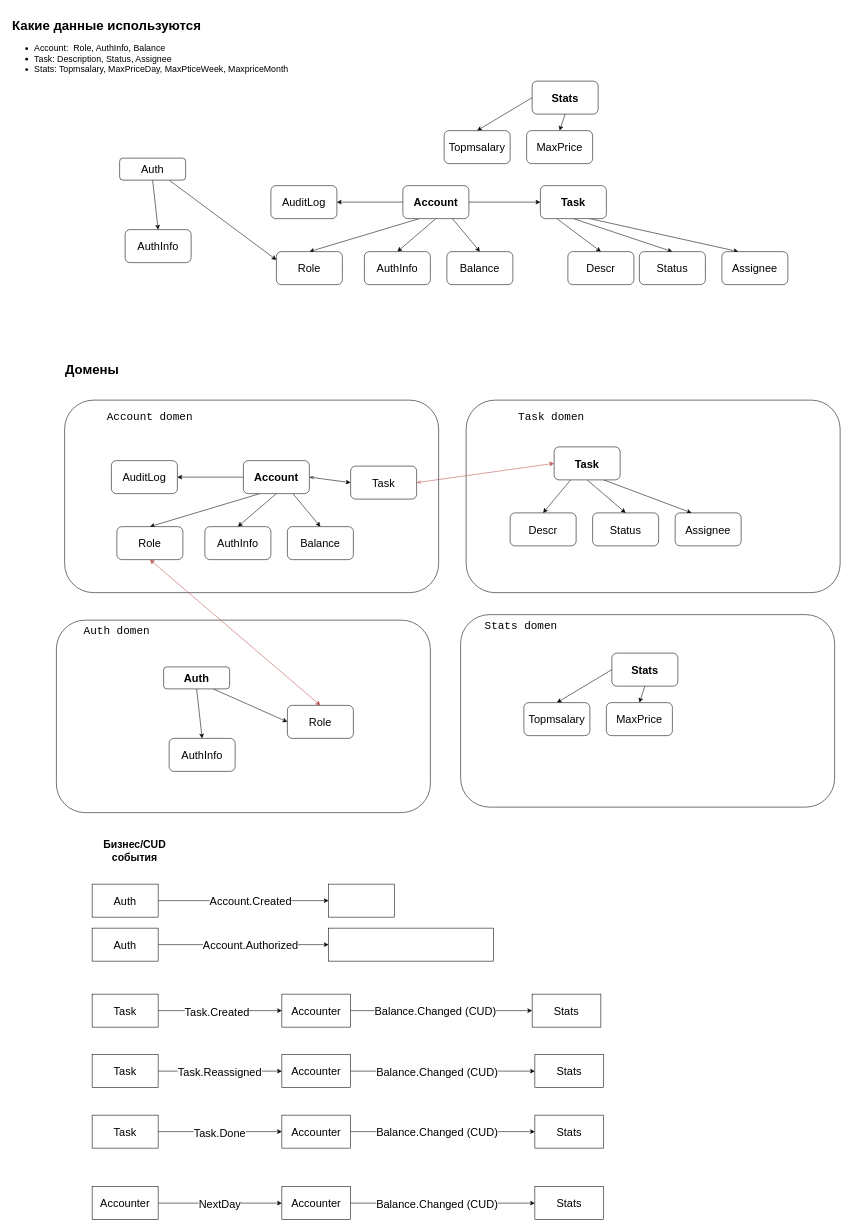
Some shapes in this 850 by 1229 pixel diagram are drawn without their labels. The shapes that lost their labels are listed below. From the top down, each one's box as (x1, y1, x2, y2) in pixels, then its label:
(328, 884, 395, 917): Acounter
(328, 928, 494, 961): Accounter/TaskTracker/Stats
